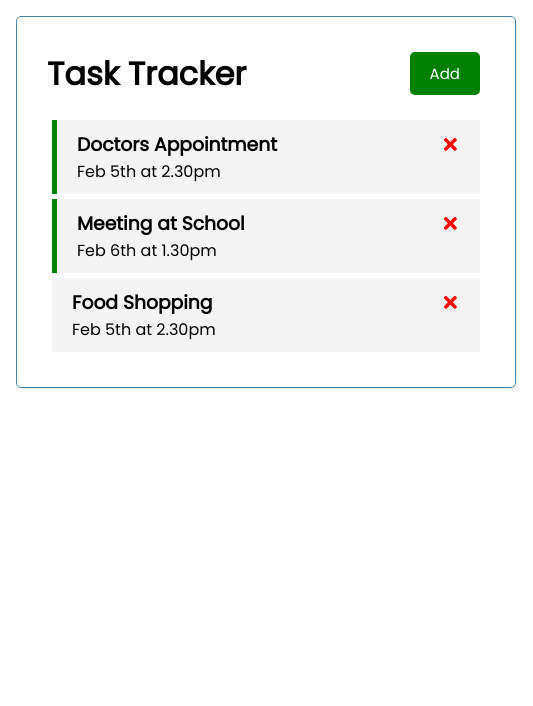
Scenario: State Checking › can reload default state of show add form to be hidden
Click the button with id "FormOpenClose" at (445,74), box [410,52,480,95]
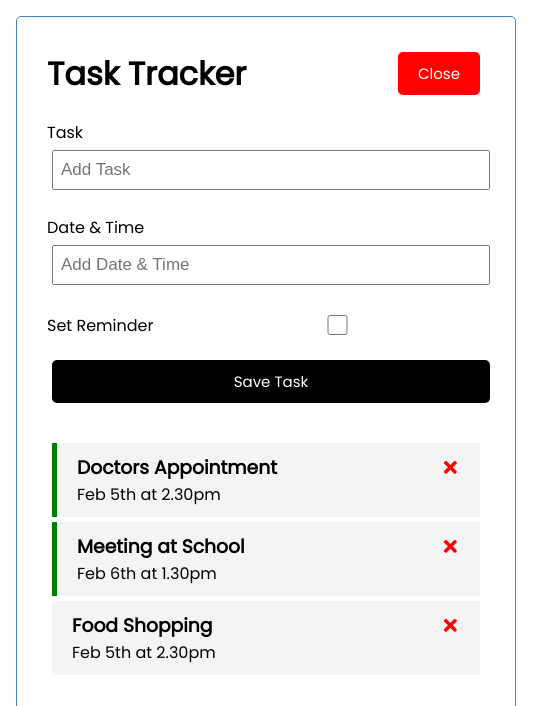
Now the form with class "add-form" is shown, box [47,120,485,403]
Reload the page
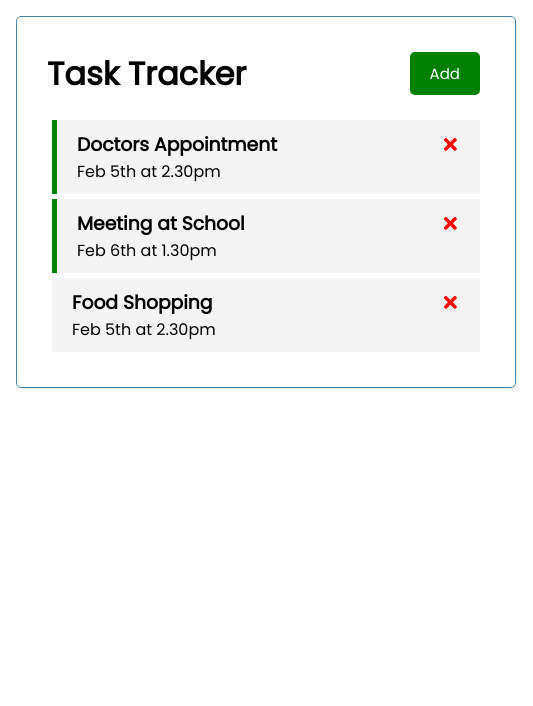
Now the form with class "add-form" is gone
